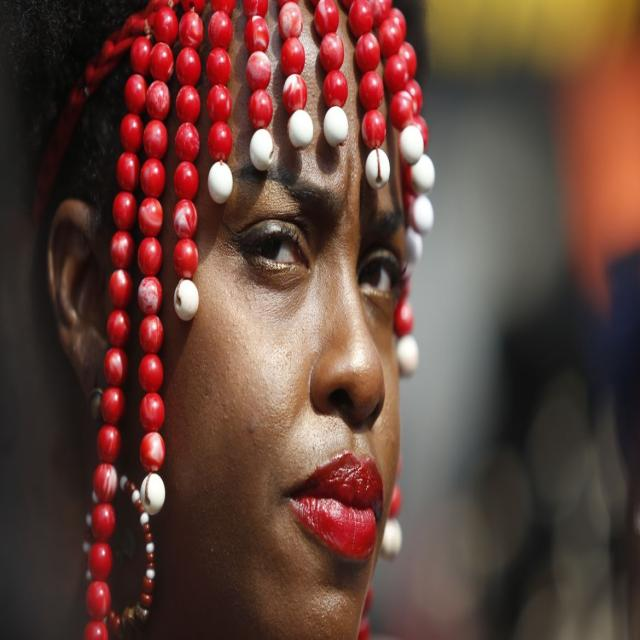sem_oculos: (49, 132, 444, 372)
